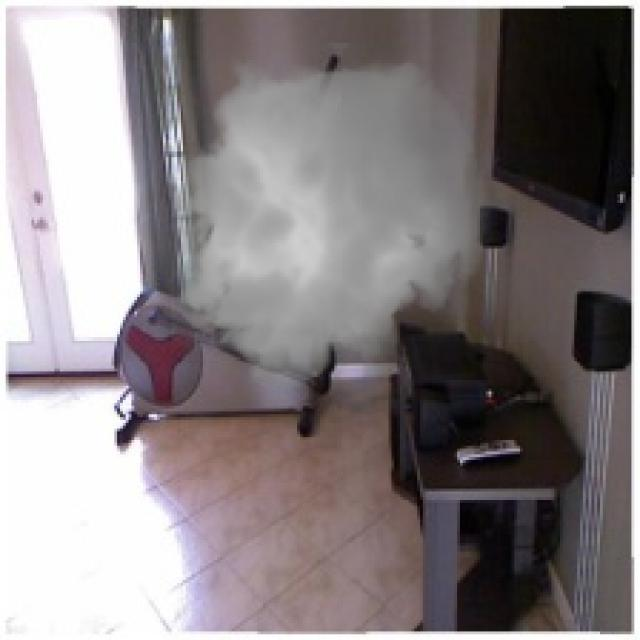Smoke: (157, 43, 500, 403)
